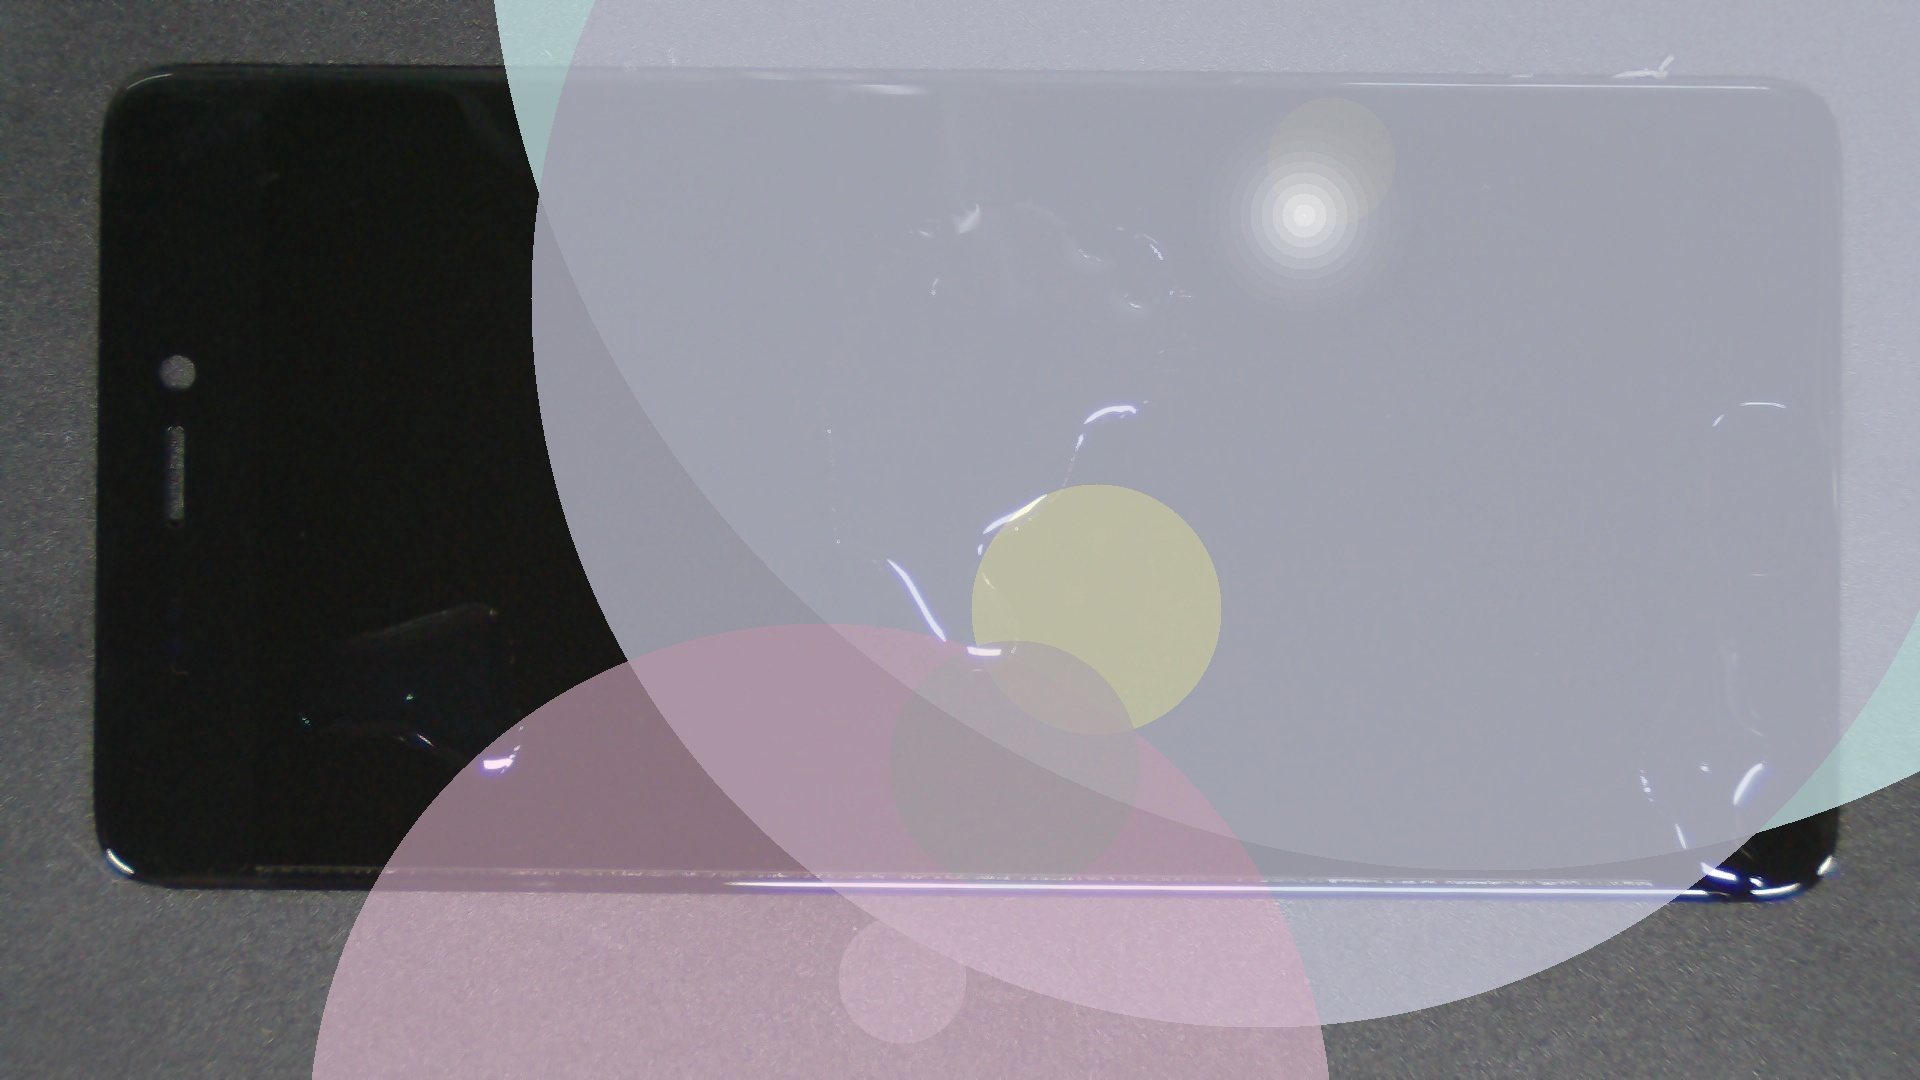oil: (852, 302, 1920, 910), (237, 301, 709, 905), (508, 99, 1520, 301)
